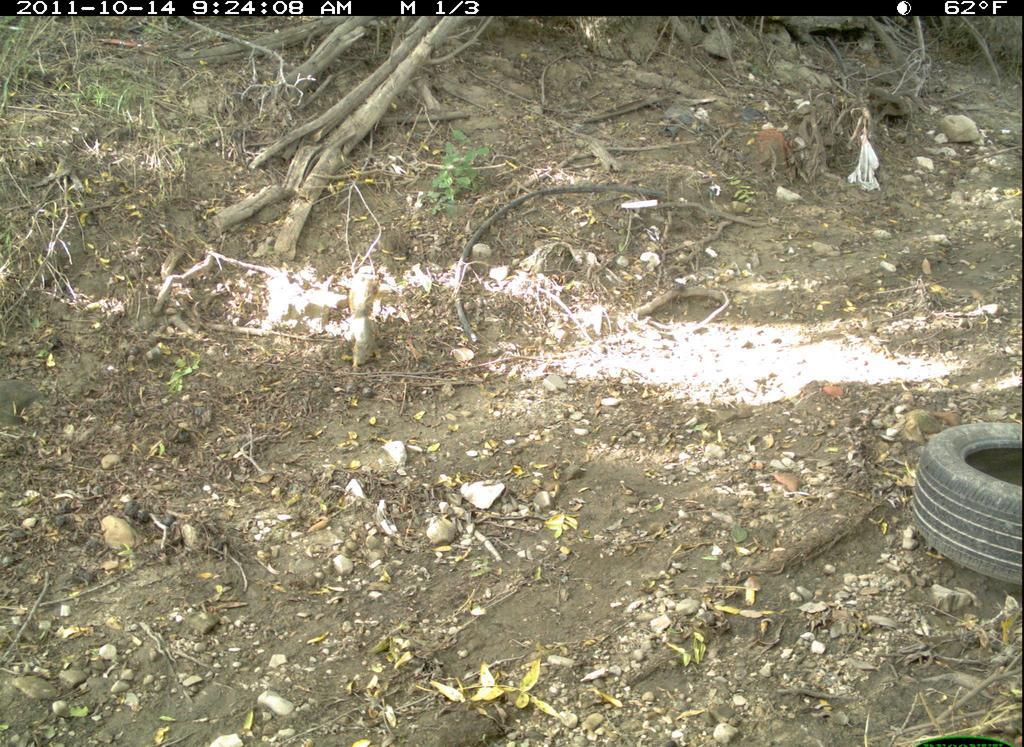squirrel: (333, 262, 389, 376)
